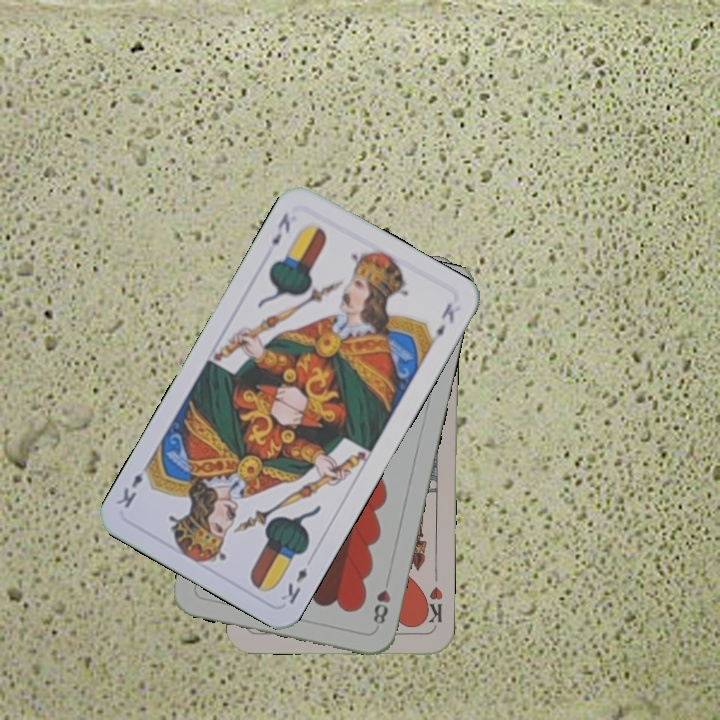EK: (276, 563, 310, 607), (267, 208, 293, 248)
H8: (369, 572, 393, 627)
HK: (419, 583, 446, 626)
